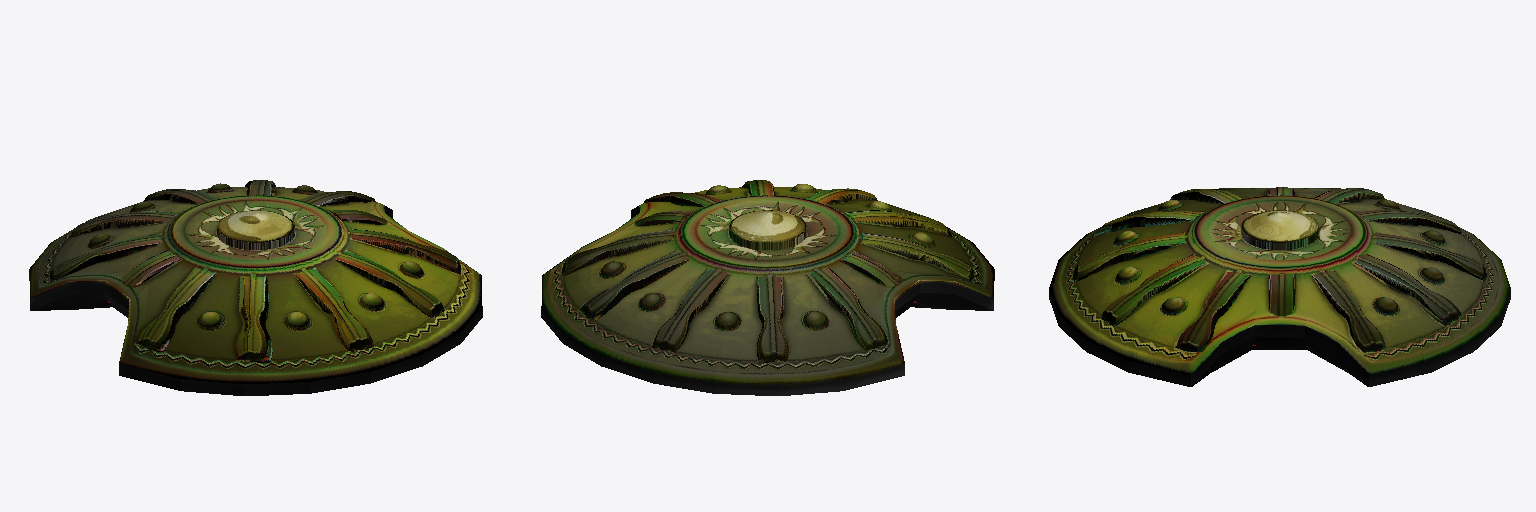
The picture shows the model from 3 angles: view 1: azimuth 30°, elevation 25°; view 2: azimuth 150°, elevation 25°; view 3: azimuth 270°, elevation 25°; orthographic projection.
Visible parts, largest first — view 1: shield; view 2: shield; view 3: shield.
Part boxes in pixels (bbox=[...]): shield: bbox=[29, 180, 482, 395]; shield: bbox=[541, 180, 994, 395]; shield: bbox=[1049, 187, 1510, 386].
Size of the model in its own units: 188 by 42.55 by 207.
Materials: 2 (1 with a texture image).